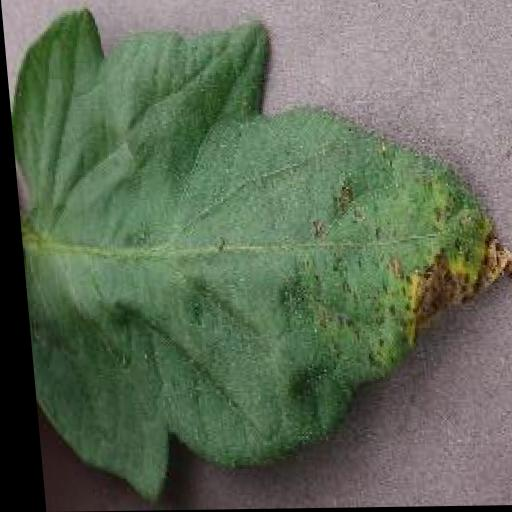Bacterial Spot: (0, 0, 512, 505)
